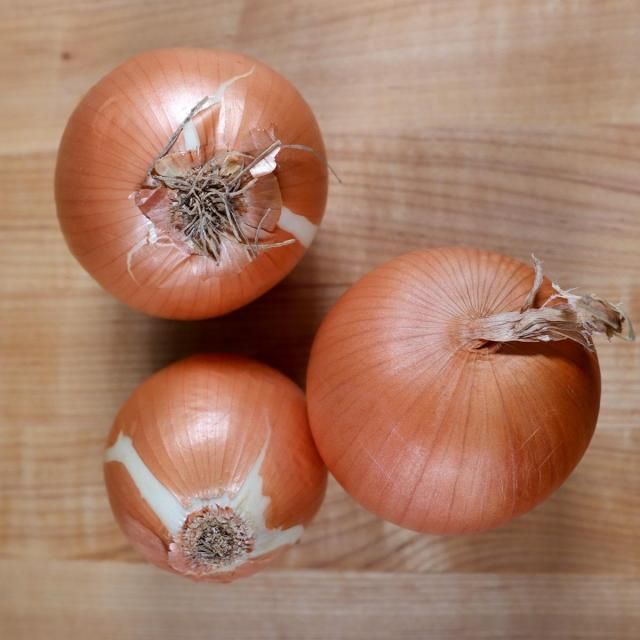Onion: (306, 247, 638, 532), (52, 47, 330, 324), (101, 353, 327, 584)
